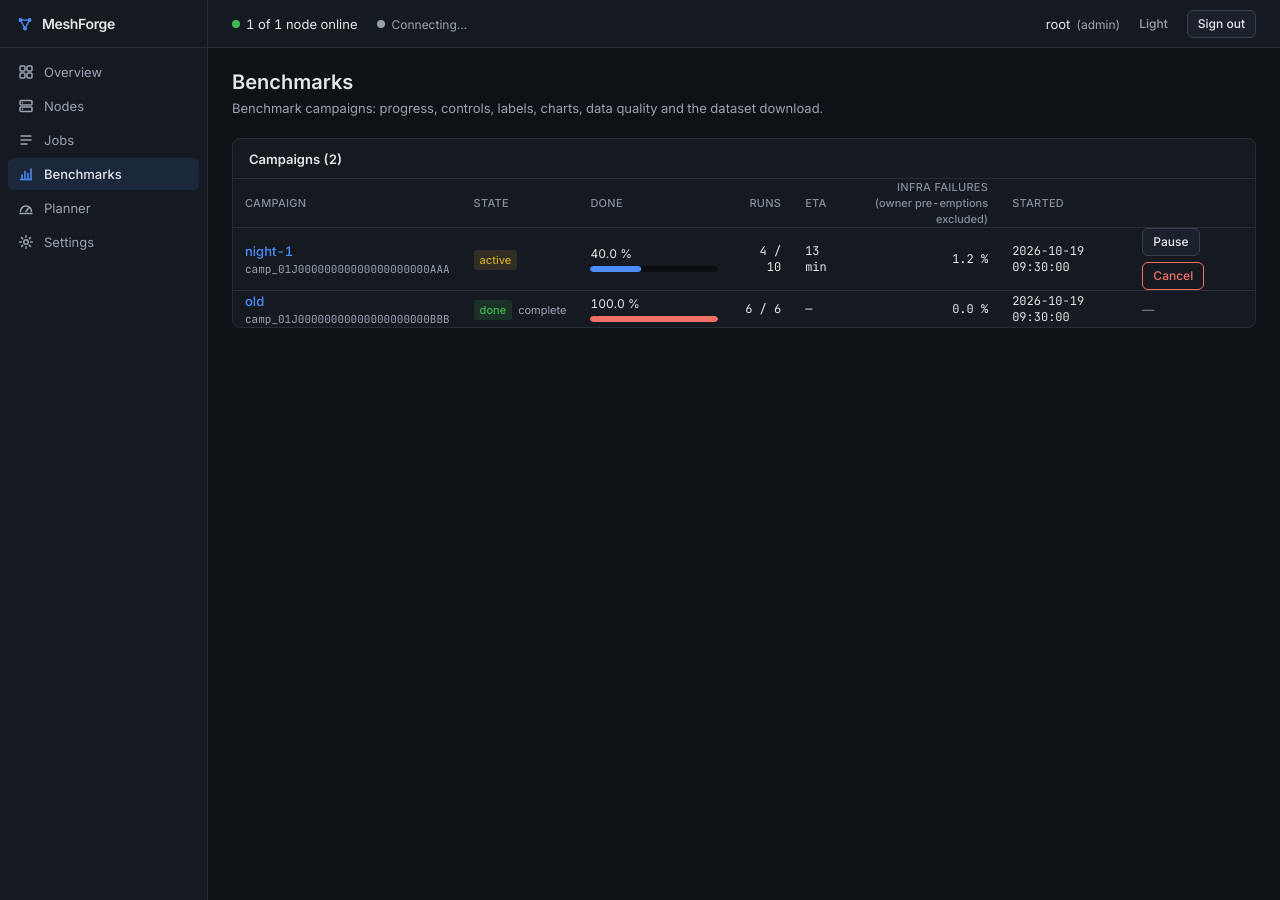
it: campaign controls › a refusal (409) toasts the server's message and code; nothing changes
Click the button with aria-label "Pause campaign night-1".
click(1171, 242)  # box [1142, 228, 1200, 256]
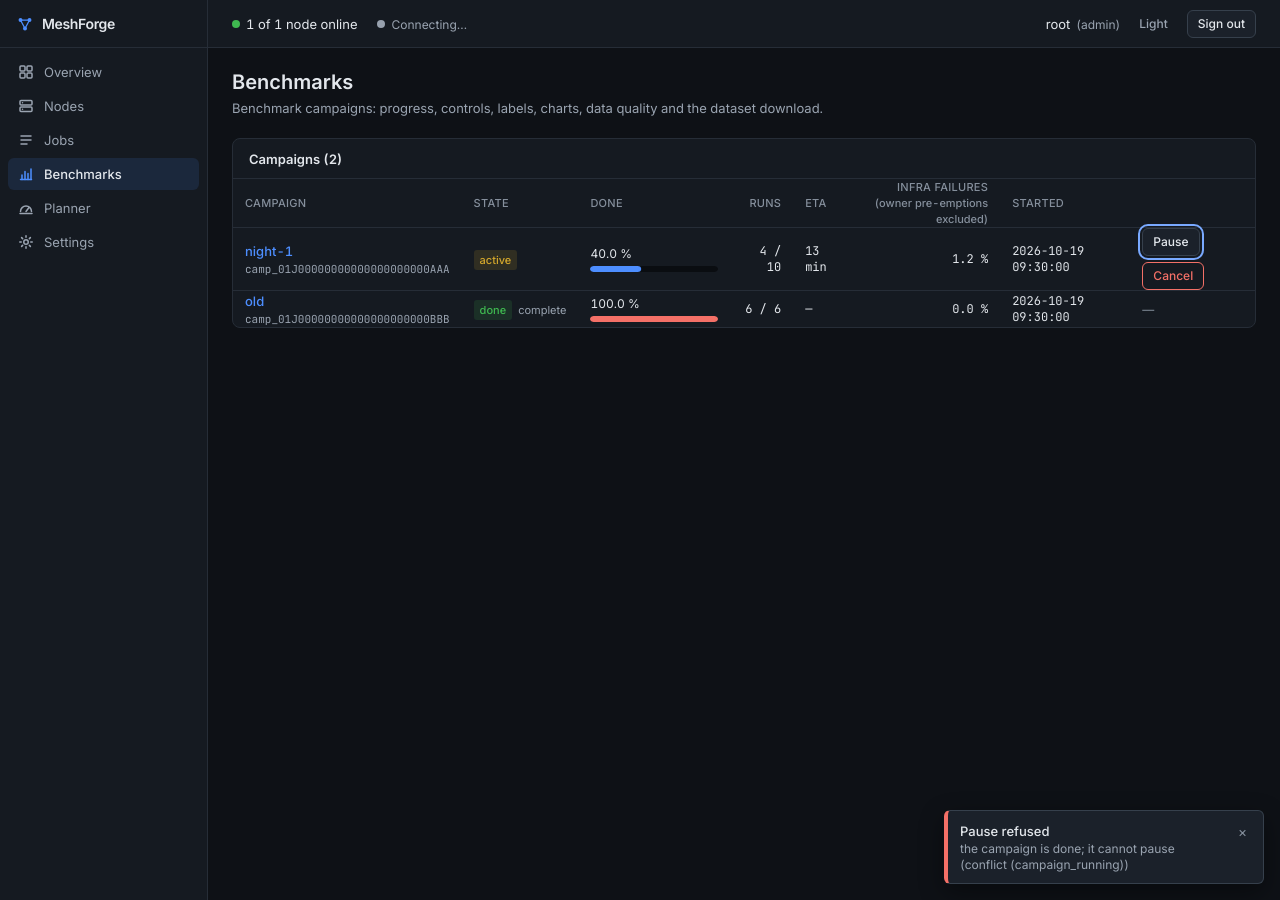
Expected: the text "Pause refused" is shown, [960, 823, 1050, 839]
Expected: the text "the campaign is done; it cannot pause (conflict (campaign_running))" is shown, [960, 841, 1175, 872]
